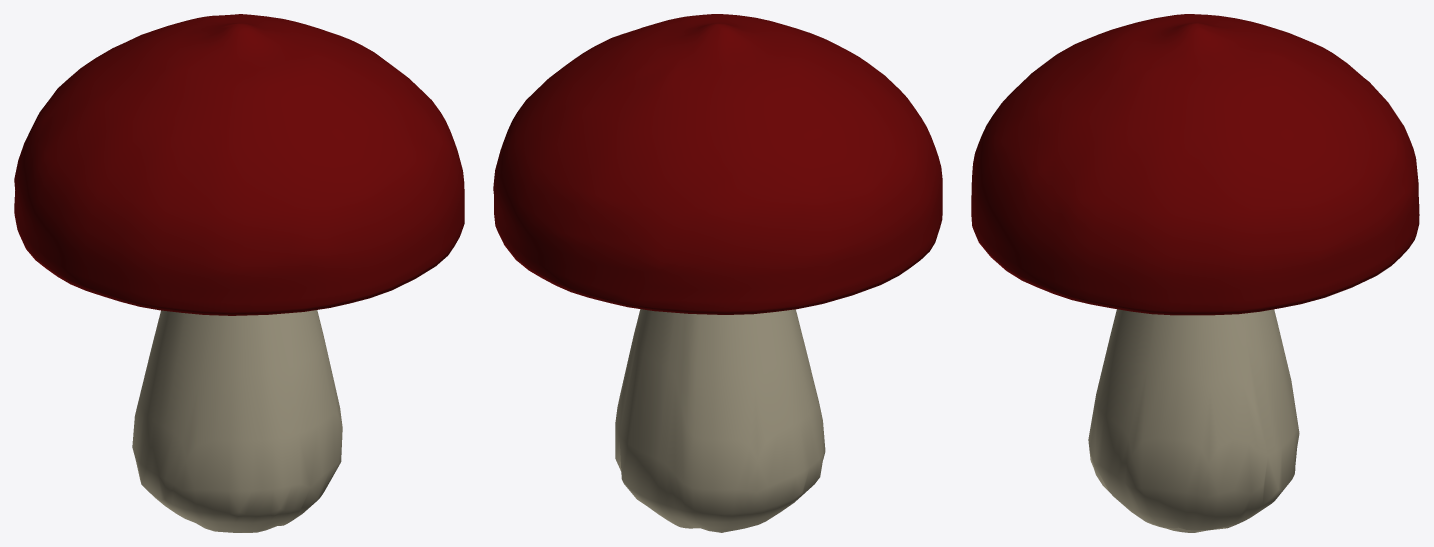
Rendered from l_grzyb_ladny_1.fbx.
The picture shows the model from 3 angles, left to right: view 1: azimuth 30°, elevation 25°; view 2: azimuth 150°, elevation 25°; view 3: azimuth 270°, elevation 25°; orthographic projection.
Parts seen in each view (by area): view 1: Sphere.023; view 2: Sphere.023; view 3: Sphere.023.
Part boxes in pixels (<box>): Sphere.023: <box>14,14,464,532</box>; Sphere.023: <box>493,14,942,532</box>; Sphere.023: <box>971,14,1419,532</box>.
Size of the model in its own units: 139 by 167 by 139.
